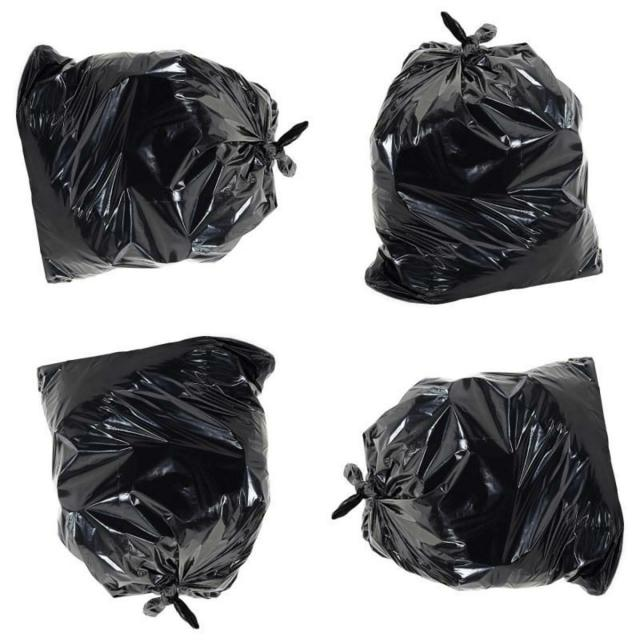Single-layer Plastic: (365, 12, 602, 304), (332, 358, 624, 595), (38, 336, 274, 628), (16, 45, 306, 282)
